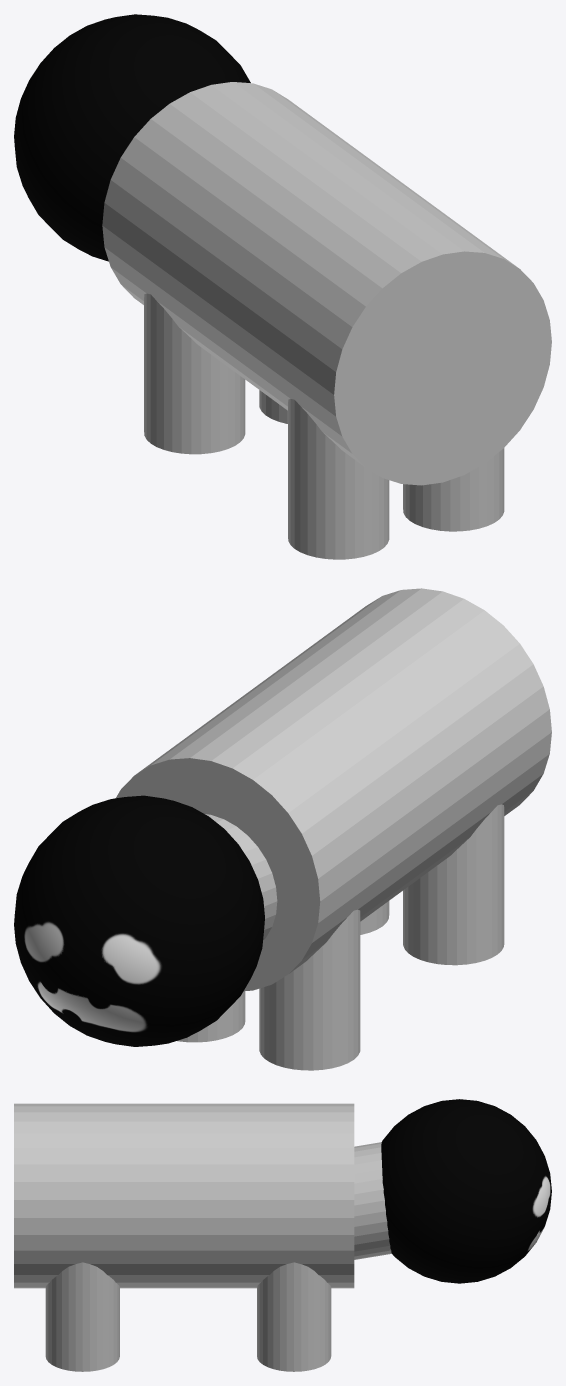
File: sloth.obj
3 renders of one model, top to bottom at view 1: azimuth 30°, elevation 25°; view 2: azimuth 150°, elevation 25°; view 3: azimuth 270°, elevation 25°, orthographic. The views are drawn at different scales.
Visible parts, largest first — view 1: Cylinder.005, Sphere; view 2: Cylinder.005, Sphere; view 3: Cylinder.005, Sphere.
Boxes of the visible parts, x1,y1,x2,y2 form: Cylinder.005: (102,82,551,559); Sphere: (14,14,250,261); Cylinder.005: (116,588,551,1070); Sphere: (14,795,264,1046); Cylinder.005: (14,1103,391,1371); Sphere: (381,1099,551,1283).
Bounding box in the file's own units: 2 × 2.72 × 5.82.
1 material, 1 textured.
